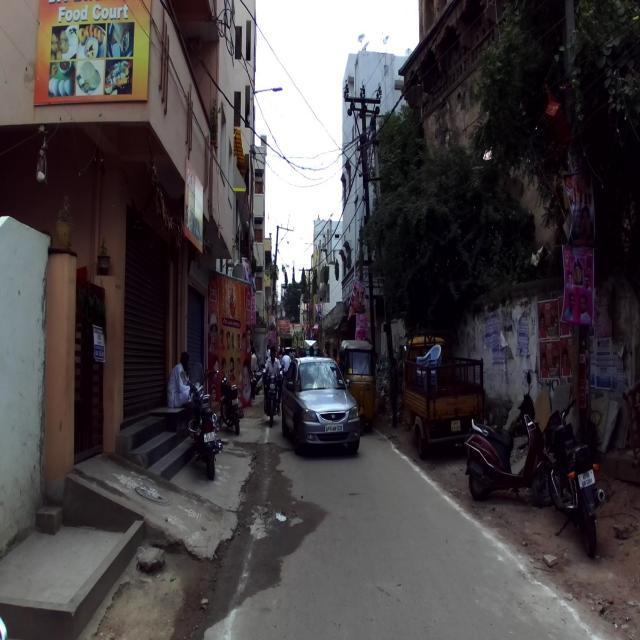pothole: (255, 492, 332, 578), (575, 595, 640, 640)
